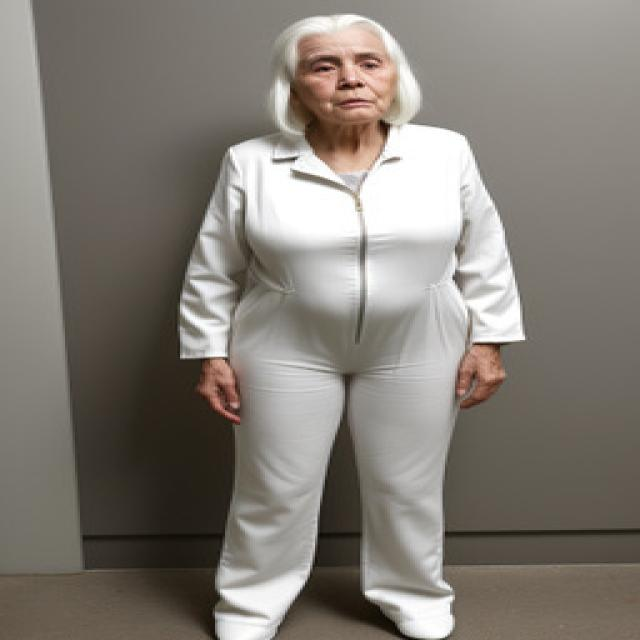Ai human 2: (160, 9, 540, 640)
